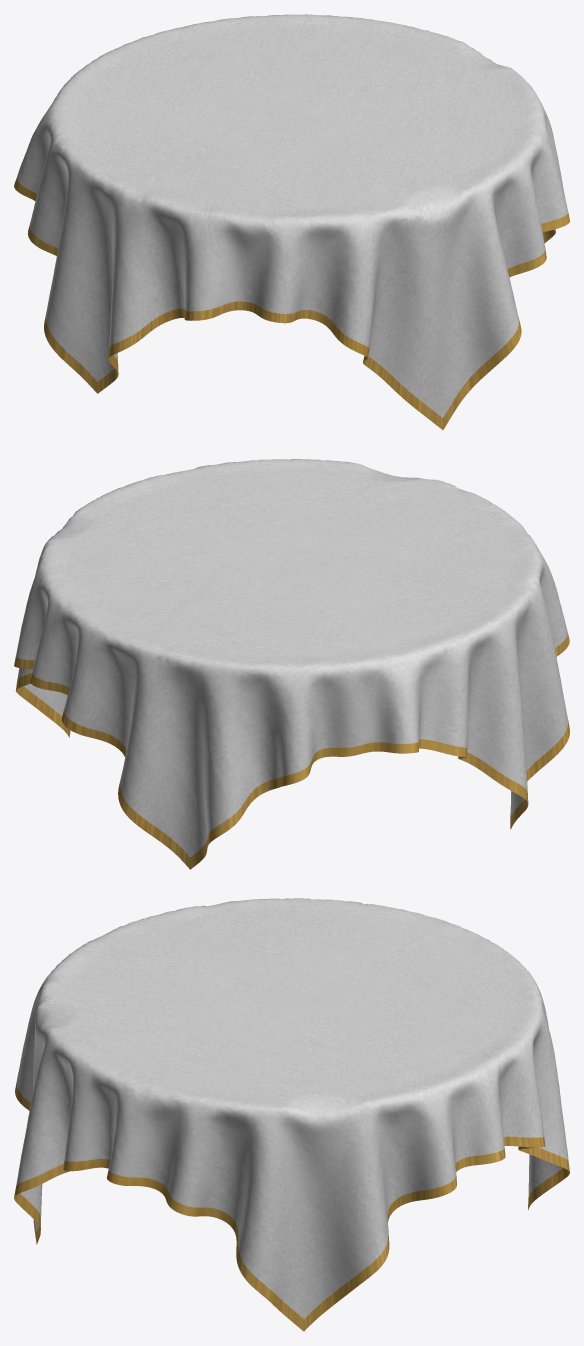
File: SM_Table Cloth.FBX
3 views of the same model, one above another, from view 1: azimuth 30°, elevation 25°; view 2: azimuth 150°, elevation 25°; view 3: azimuth 270°, elevation 25° (orthographic).
Visible parts, largest first — view 1: Table cloth; view 2: Table cloth; view 3: Table cloth.
Part boxes in pixels (<box>): Table cloth: <box>14,14,569,429</box>; Table cloth: <box>14,459,569,869</box>; Table cloth: <box>14,898,569,1331</box>.
Bounding box in the file's own units: 1302 × 591 × 1277.
Materials: 2 (2 with a texture image).
